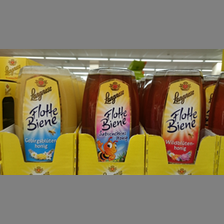honey: (17, 66, 76, 165), (150, 70, 207, 170), (81, 70, 141, 164)
